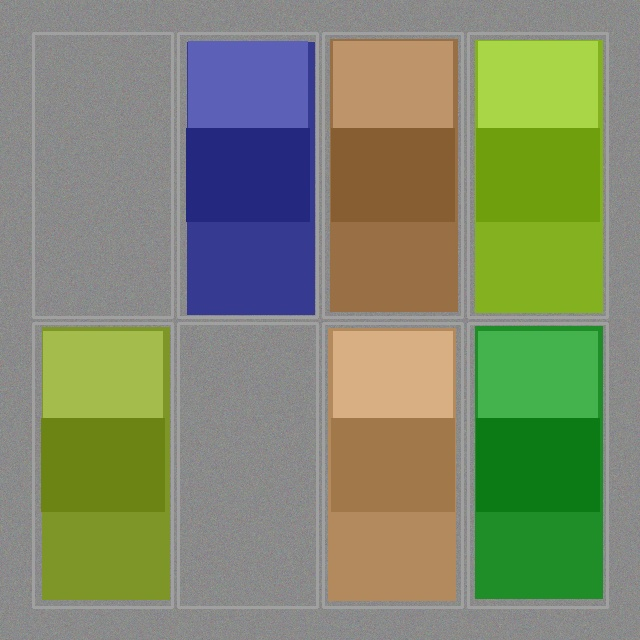space-empty: (35, 35, 170, 315), (180, 325, 315, 605)
space-occupied: (180, 35, 315, 315), (325, 35, 460, 315), (470, 35, 605, 315), (35, 325, 170, 605), (325, 325, 460, 605), (470, 325, 605, 605)
